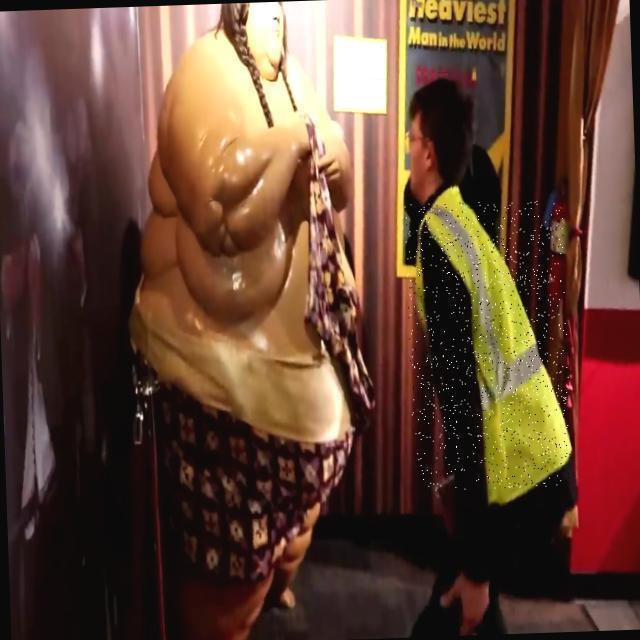no-helmet: (400, 73, 485, 187)
vest: (404, 198, 572, 491)
